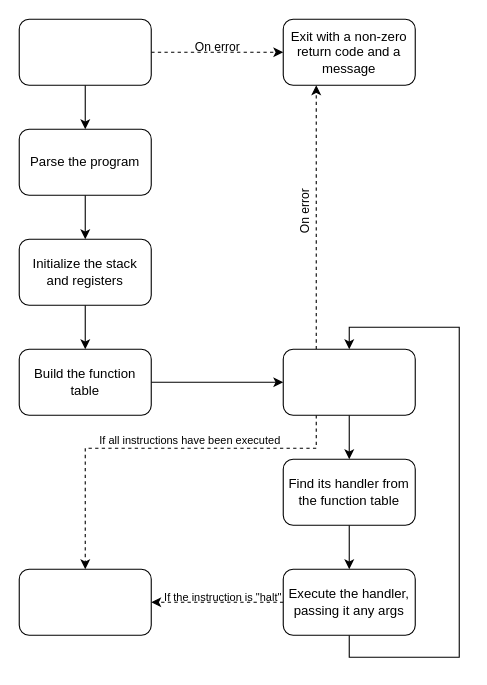
The diagram is 487 pixels wide and 685 high, and some of its shapes have lost their labels. Here are the shapes that lost their labels. From the top down, the centre of each, then its label:
[84,51]: Read ABM source file name and open it
[348,381]: Read the next instruction
[84,601]: Exit with code 0
